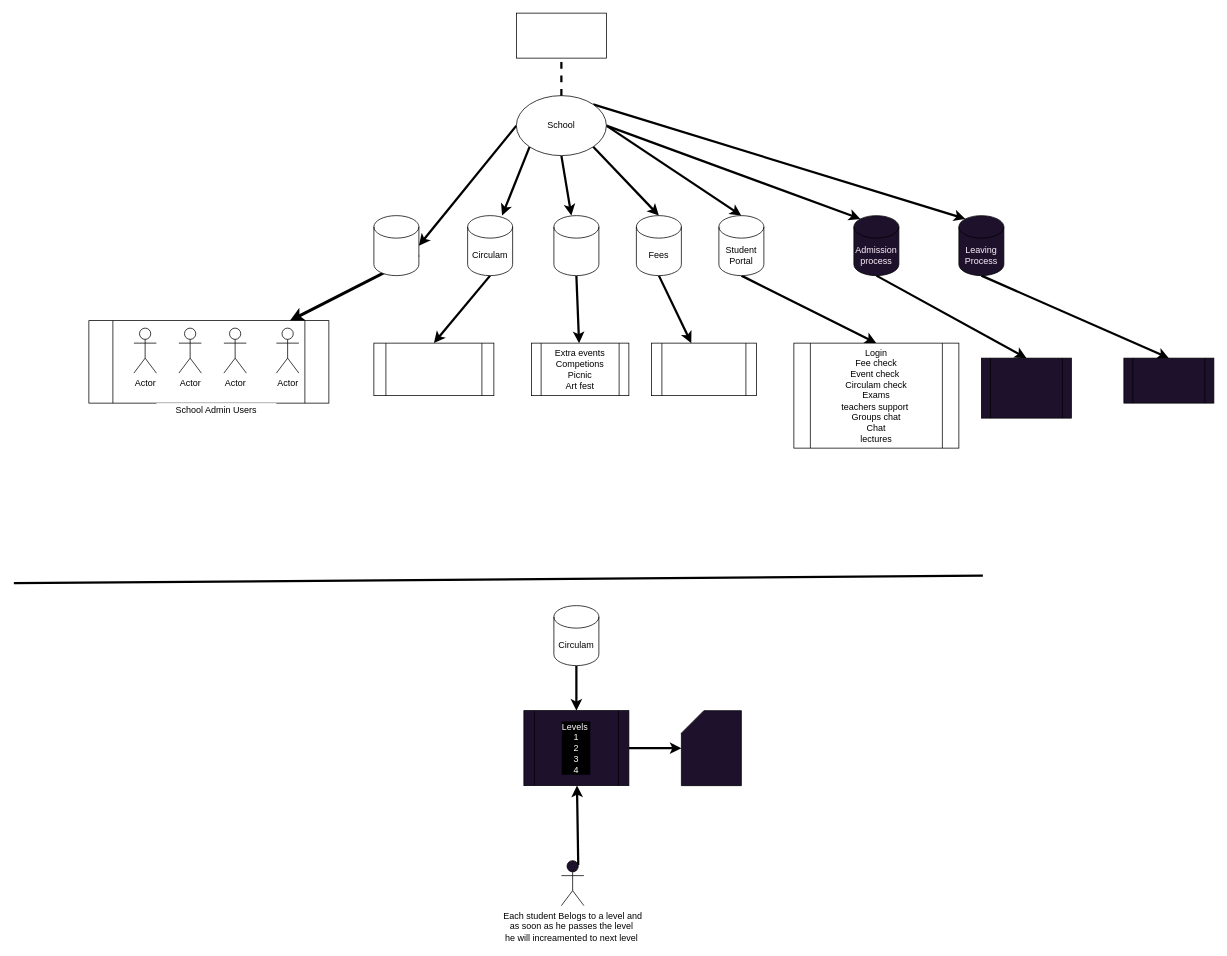
This 1227x956 diagram has some shape labels left out. The centre of each missing label's shape, as x and y in pixels:
"Admin" belongs at point (561, 35).
"Admission Grants Ciculam level Documents Admission form" belongs at point (1026, 387).
"Events" belongs at point (576, 245).
"Level Passing Logic" belongs at point (711, 748).
"RBAC" belongs at point (396, 245).
"Student fees Event Fees Circulam fees Fee structure" belongs at point (703, 369).
"Studies exams Level" belongs at point (433, 369).
"Year of Leaving level" belongs at point (1168, 380).
